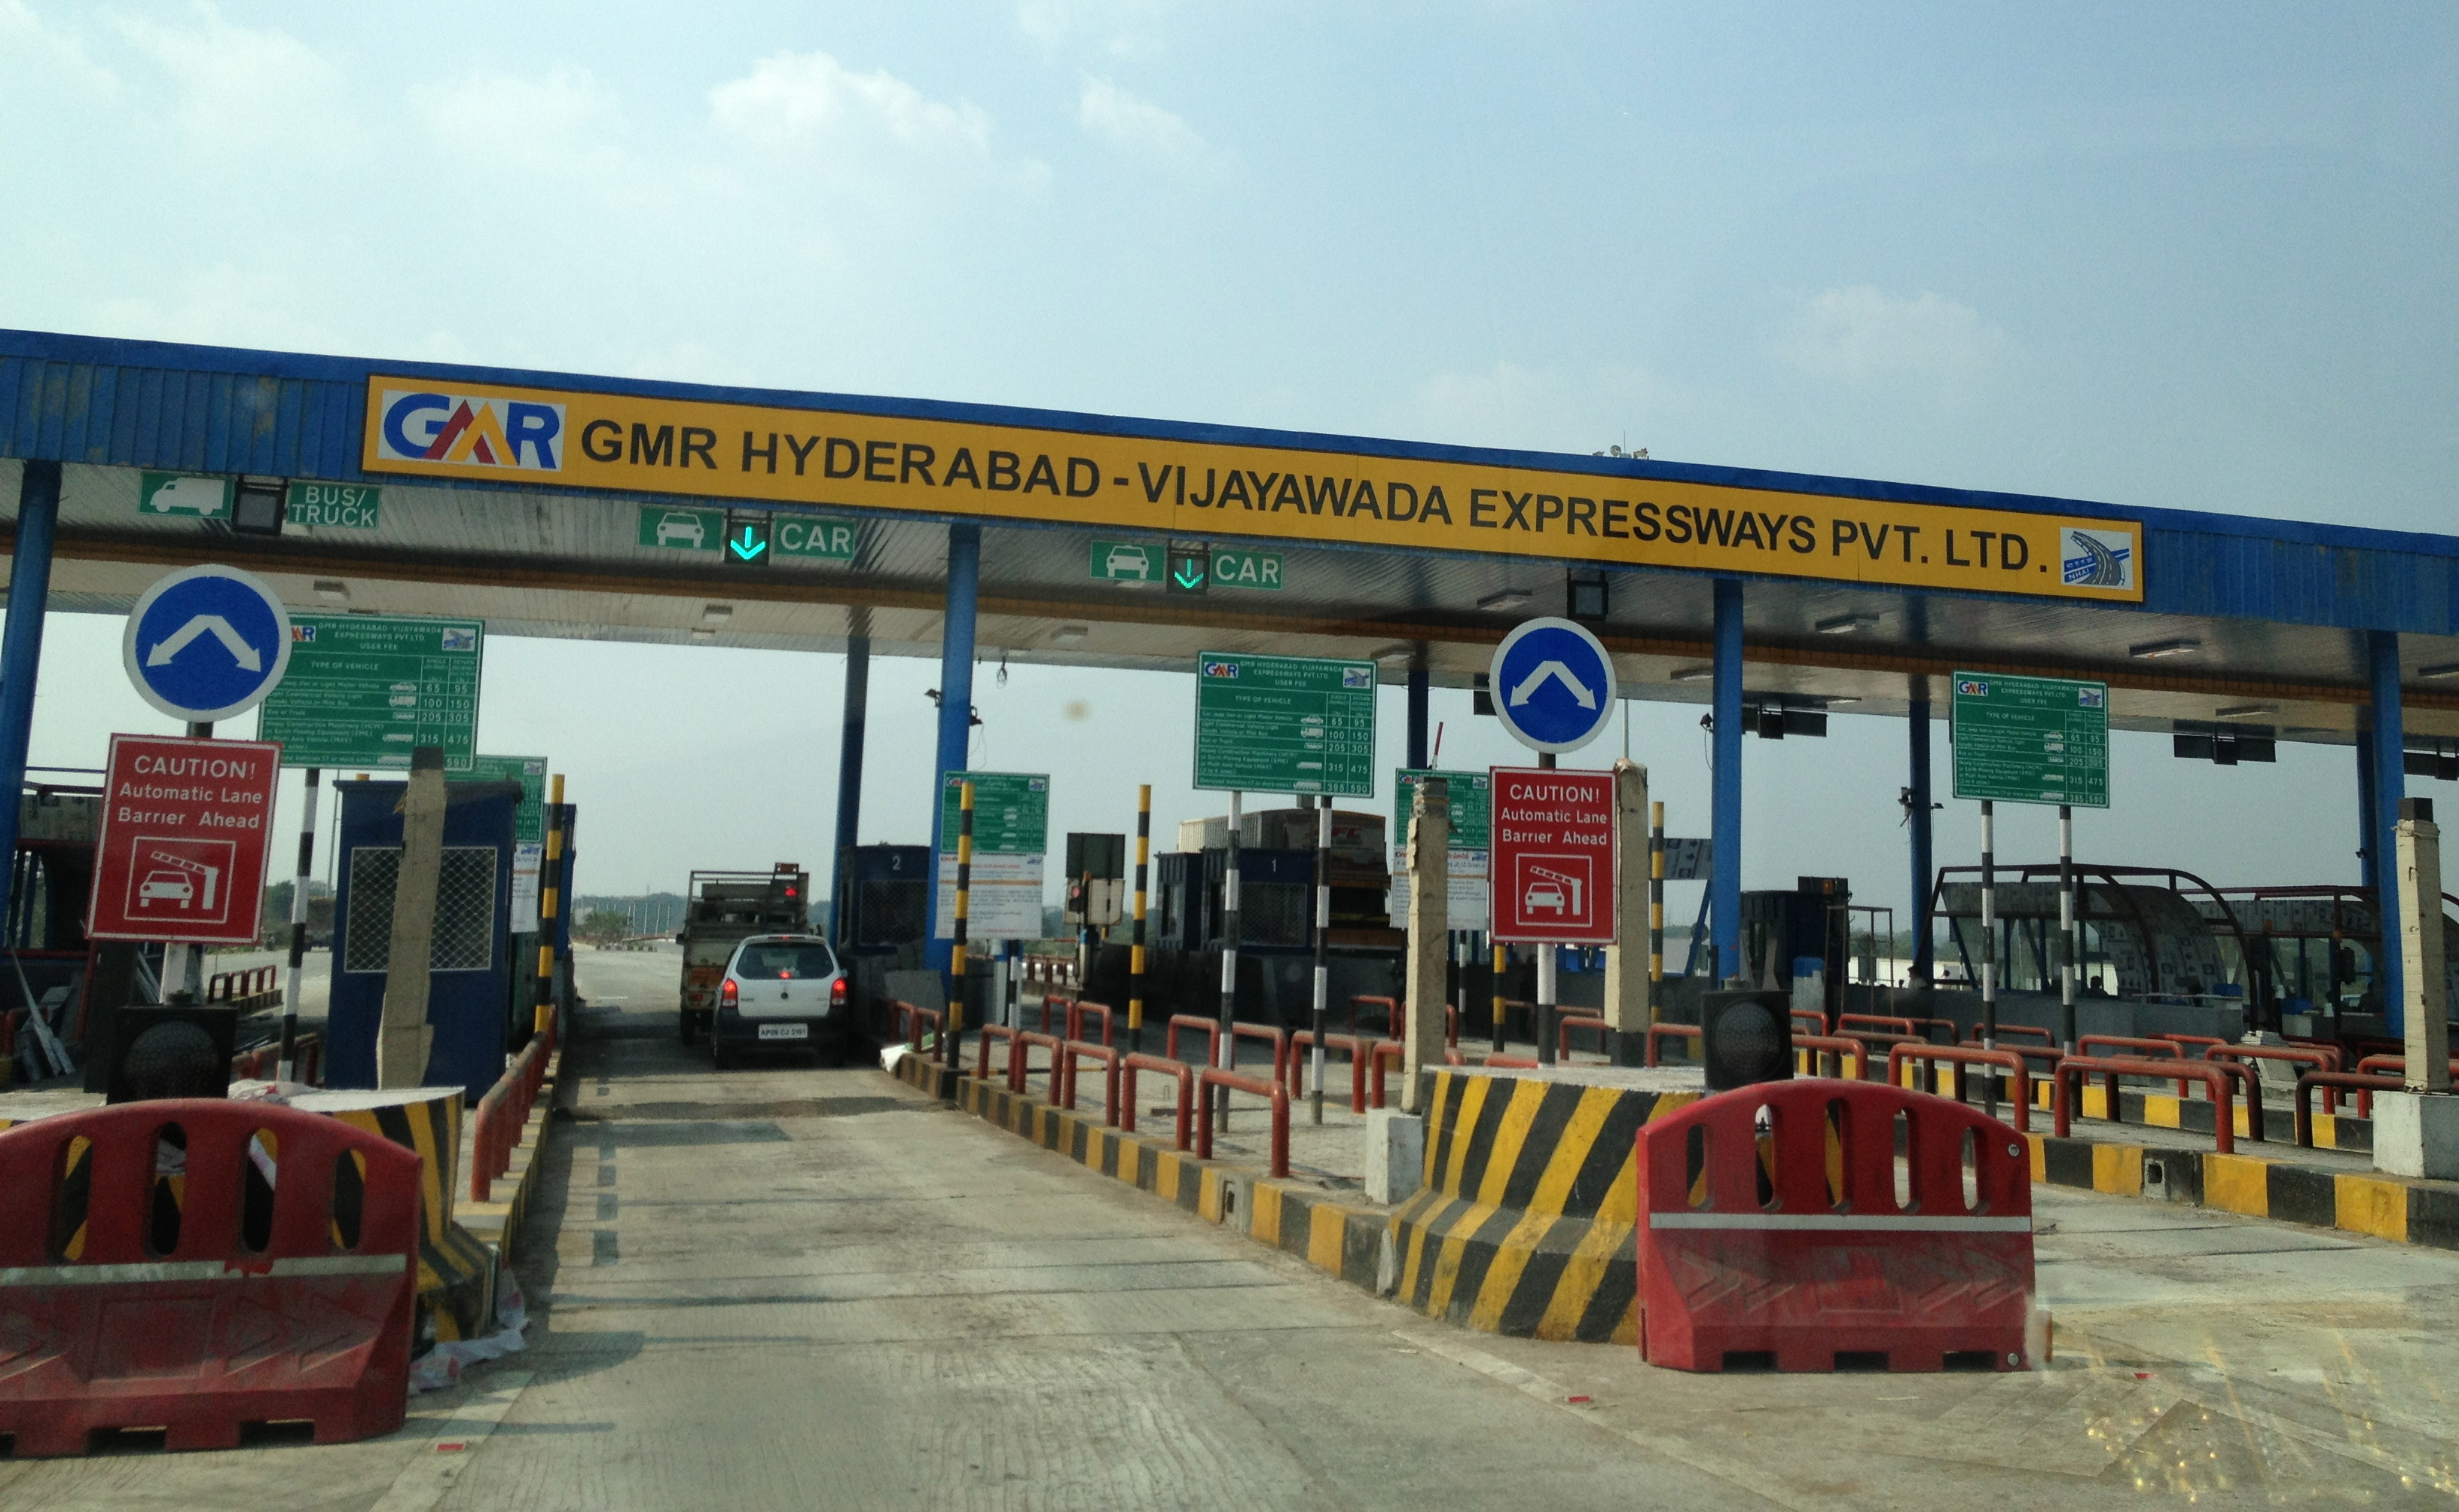toll plaza: (40, 290, 2459, 1103)
